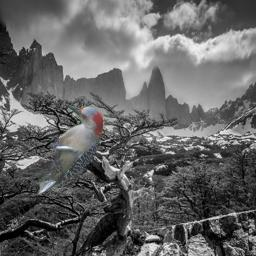Woodpecker: (36, 104, 103, 196)
